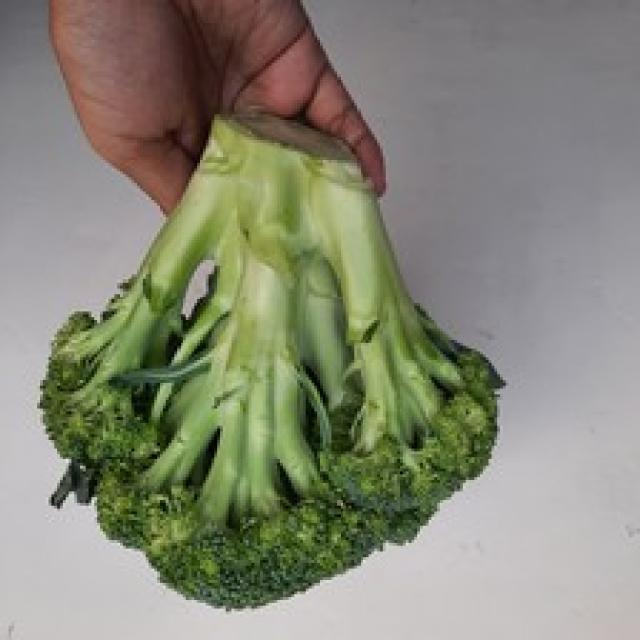broccoli: (39, 115, 497, 608)
